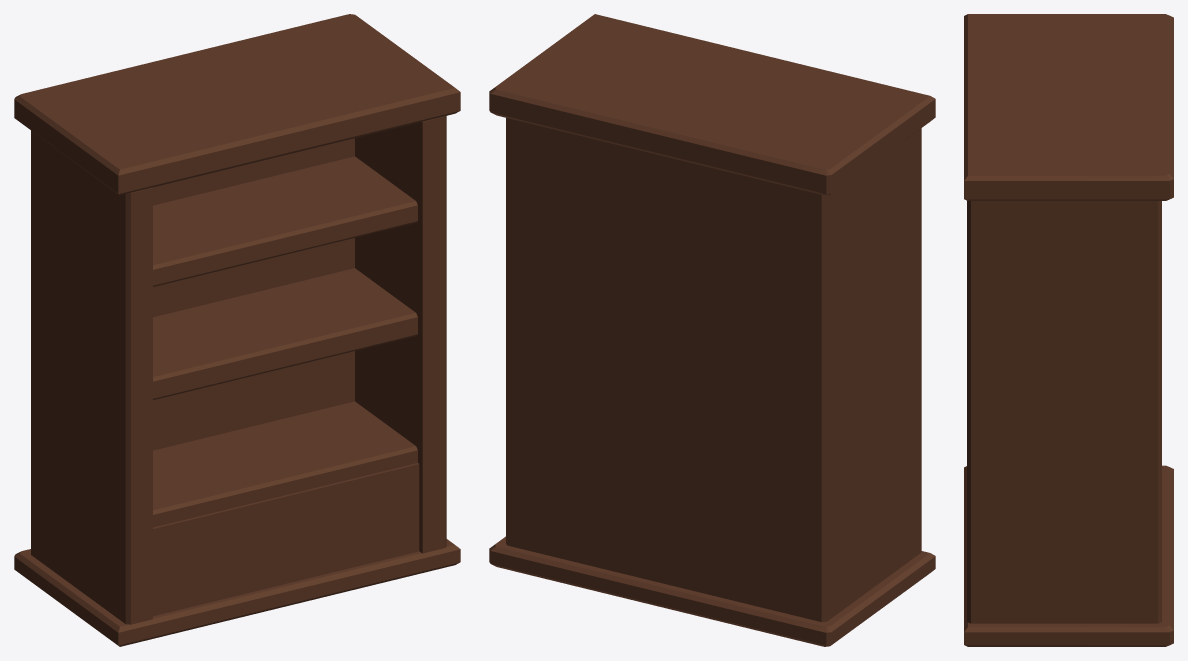
The model's file is small_bookShelf_UV.fbx.
The picture shows the model from 3 angles, left to right: view 1: azimuth 30°, elevation 25°; view 2: azimuth 150°, elevation 25°; view 3: azimuth 270°, elevation 25°; orthographic projection.
Parts seen in each view (by area): view 1: pCube3; view 2: pCube3; view 3: pCube3.
Part boxes in pixels (x1=…): pCube3: x1=14, y1=14, x2=460, y2=646; pCube3: x1=489, y1=14, x2=935, y2=646; pCube3: x1=964, y1=14, x2=1173, y2=646.
Size of the model in its own units: 21.68 by 28.87 by 11.64.
